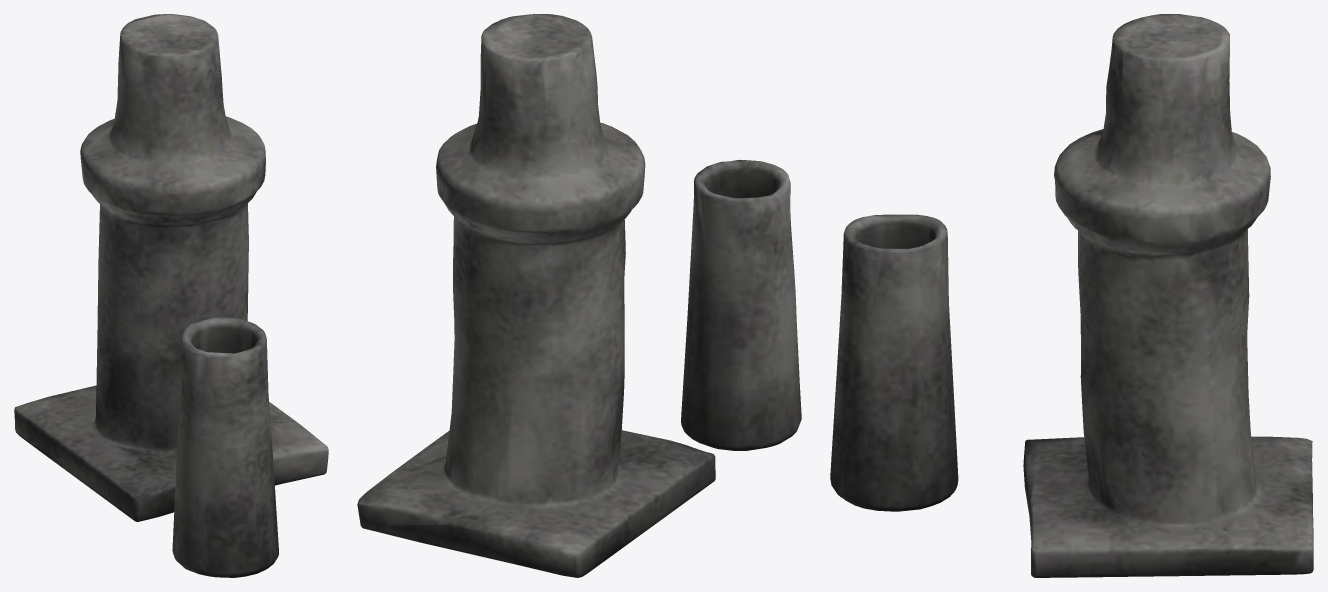
The model's file is worn-granite-chimney-stack-v001.glb.
3 renders of one model, left to right at view 1: azimuth 30°, elevation 25°; view 2: azimuth 150°, elevation 25°; view 3: azimuth 270°, elevation 25°, orthographic. The views are drawn at different scales.
Visible parts, largest first — view 1: worn-granite-chimney-stack; view 2: worn-granite-chimney-stack; view 3: worn-granite-chimney-stack.
Part boxes in pixels (x1,y1,x2,y2): worn-granite-chimney-stack: [14, 14, 328, 577]; worn-granite-chimney-stack: [357, 14, 801, 577]; worn-granite-chimney-stack: [830, 14, 1313, 577].
Size of the model in its own units: 0.9666 by 1.85 by 1.66.
1 material, 1 textured.
